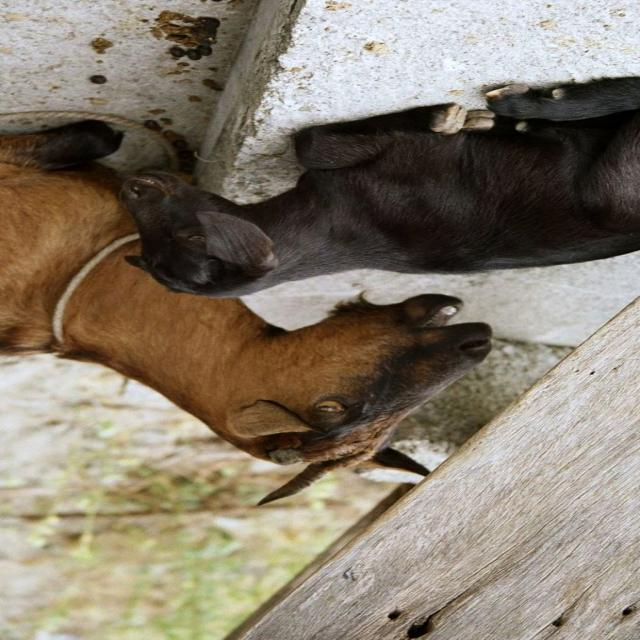Goat: (0, 120, 493, 509), (117, 77, 638, 299)
